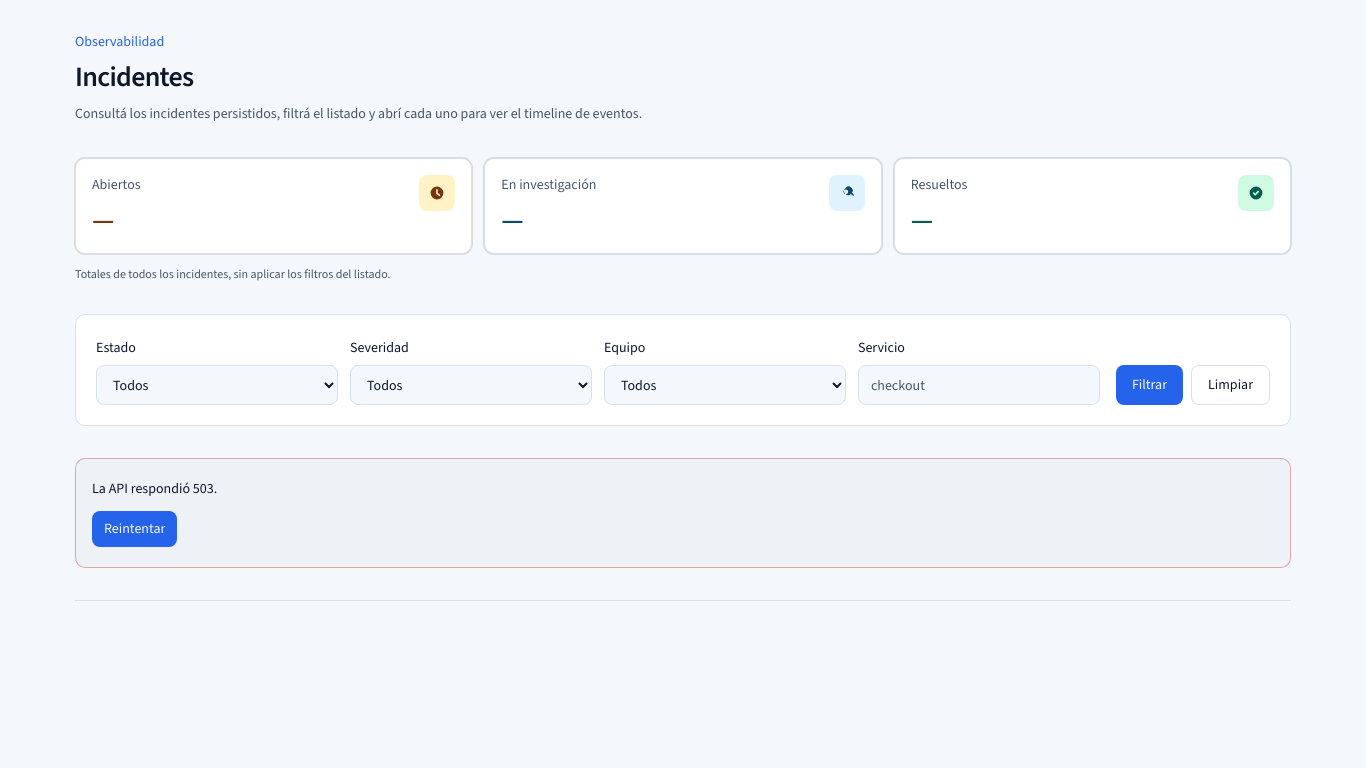
Test: IncidentDashboard › shows an error when the listing fails to load
The image size is (1366, 768).
Expected: the text "La API respondió 503." is shown, [92, 479, 217, 498]
Click the button "Reintentar".
click(135, 529)  # box [92, 511, 177, 547]
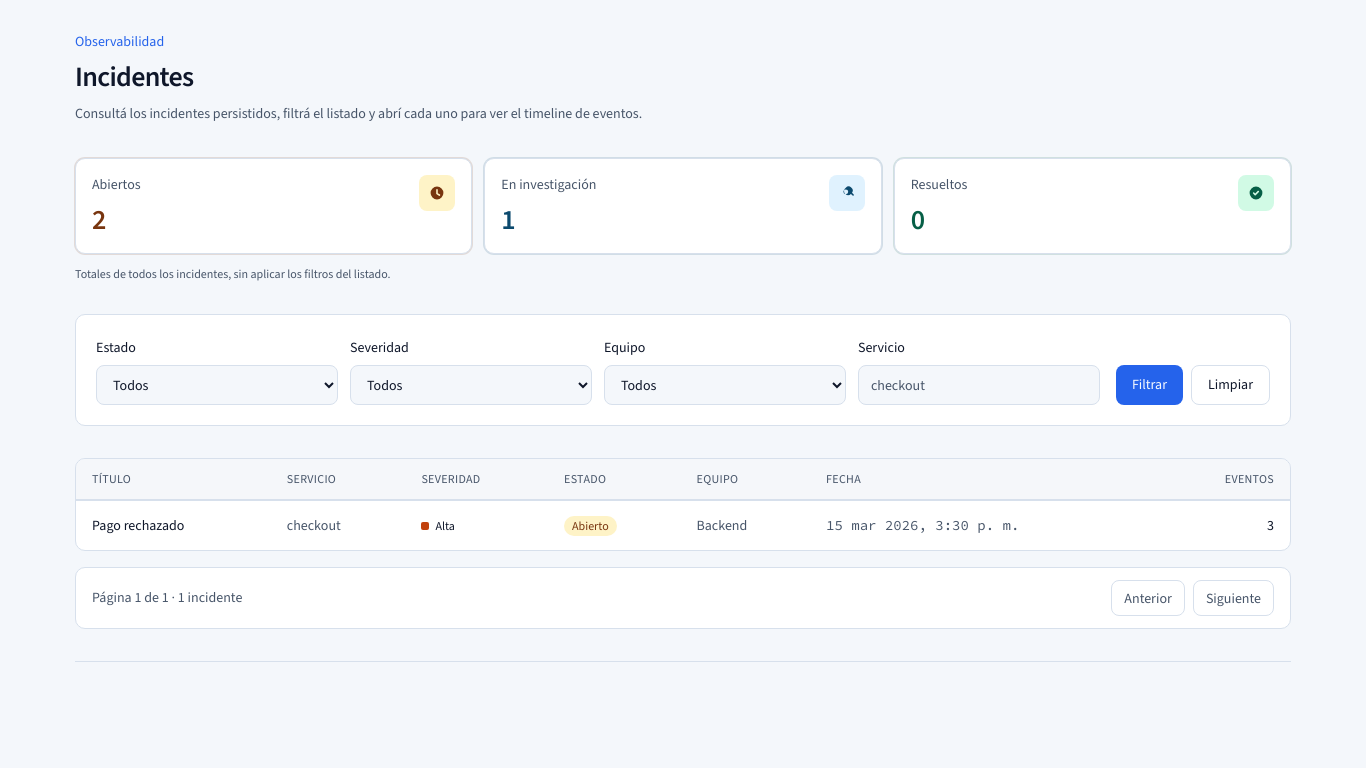
Now the table named "Incidentes" is shown, box [76, 459, 1290, 550]
